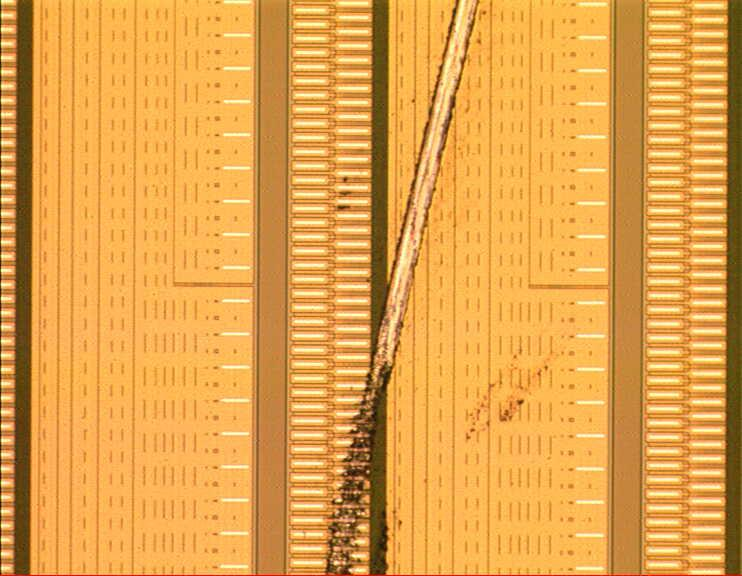SCRATCH: (313, 1, 486, 576)
